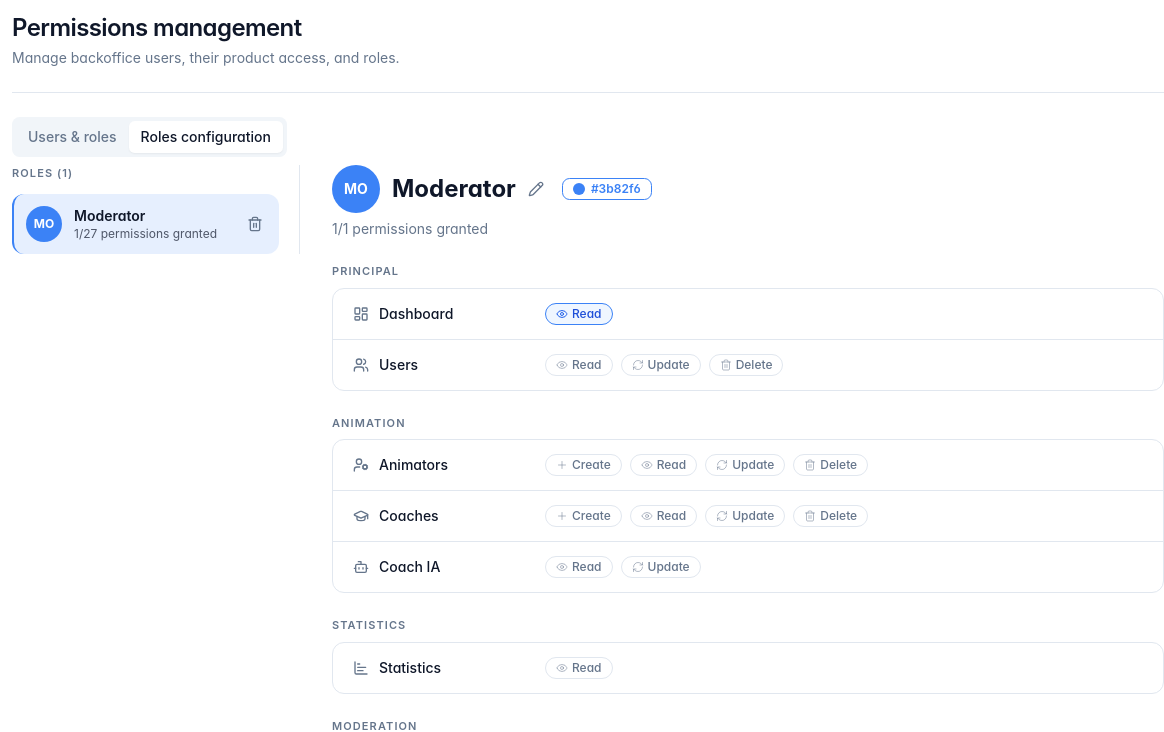
Test case: PermissionsPage — Inline role editing › clicking the rename button shows an input with the current role name
Click the button named "rename role": (536, 189) 522,175 -> 550,203
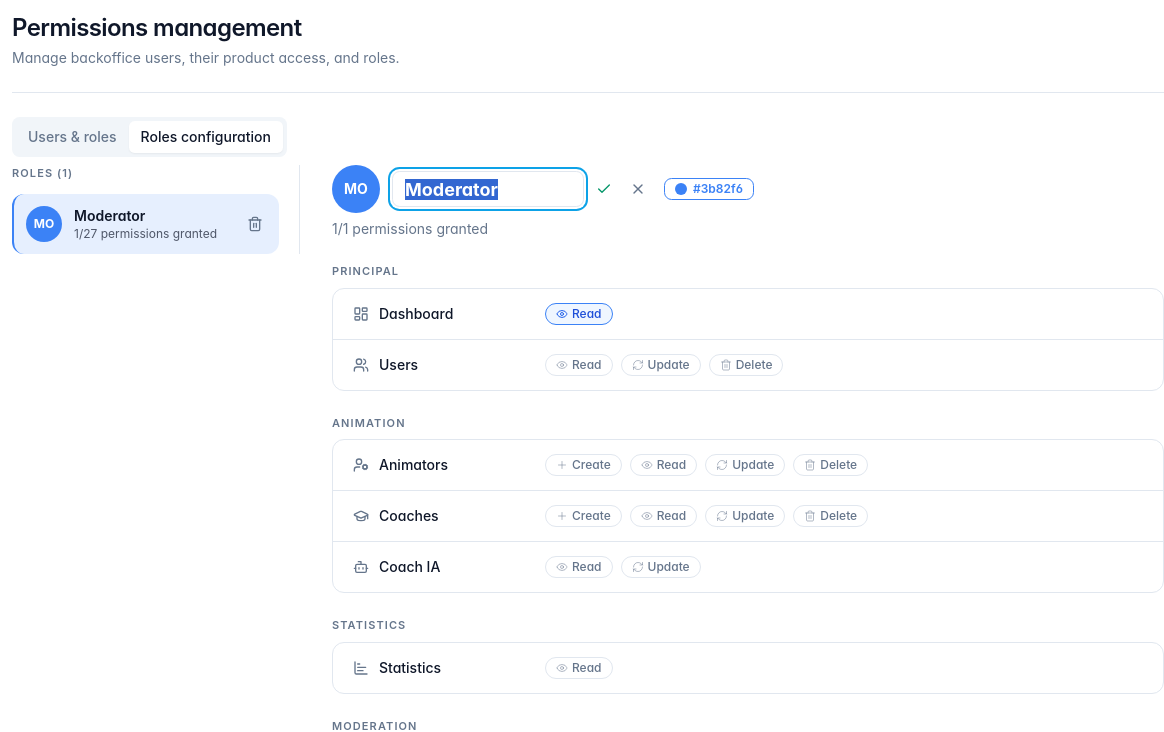
Now the field named "name" holds "Moderator", box 392,171 -> 584,207
